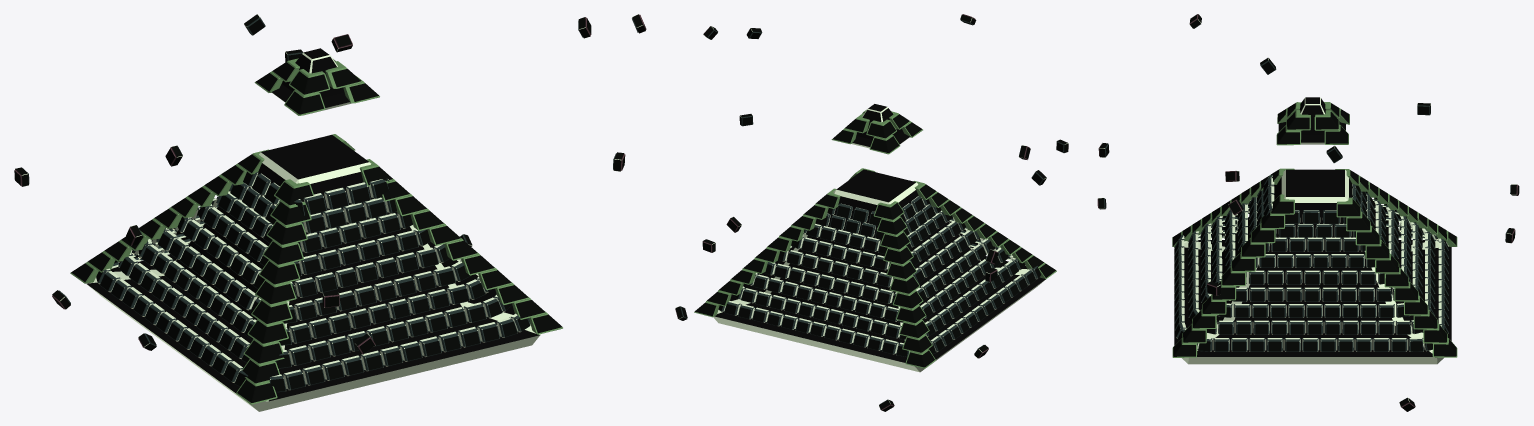
3 renders of one model, left to right at view 1: azimuth 30°, elevation 25°; view 2: azimuth 150°, elevation 25°; view 3: azimuth 270°, elevation 25°, orthographic. The views are drawn at different scales.
Parts seen in each view (by area): view 1: originalBrick08, corner.006, brick.001, brick, brick.002; view 2: originalBrick08, corner.006, brick.001, brick.002, brick; view 3: originalBrick08, corner.006, brick.001, brick.002.
Part boxes in pixels (bbox=[...]): originalBrick08: bbox=[70, 134, 562, 411]; corner.006: bbox=[254, 48, 379, 115]; brick.001: bbox=[126, 14, 646, 350]; brick: bbox=[52, 14, 591, 354]; brick.002: bbox=[14, 49, 625, 307]; originalBrick08: bbox=[694, 168, 1056, 372]; corner.006: bbox=[831, 104, 922, 154]; brick.001: bbox=[675, 14, 1030, 411]; brick.002: bbox=[702, 114, 1068, 282]; brick: bbox=[726, 28, 1046, 358]; originalBrick08: bbox=[1172, 168, 1457, 364]; corner.006: bbox=[1276, 97, 1349, 145]; brick.001: bbox=[1189, 14, 1415, 411]; brick.002: bbox=[1098, 103, 1515, 295].
Size of the model in its own units: 276 by 215 by 250.
Materials: 4 (4 with a texture image).
